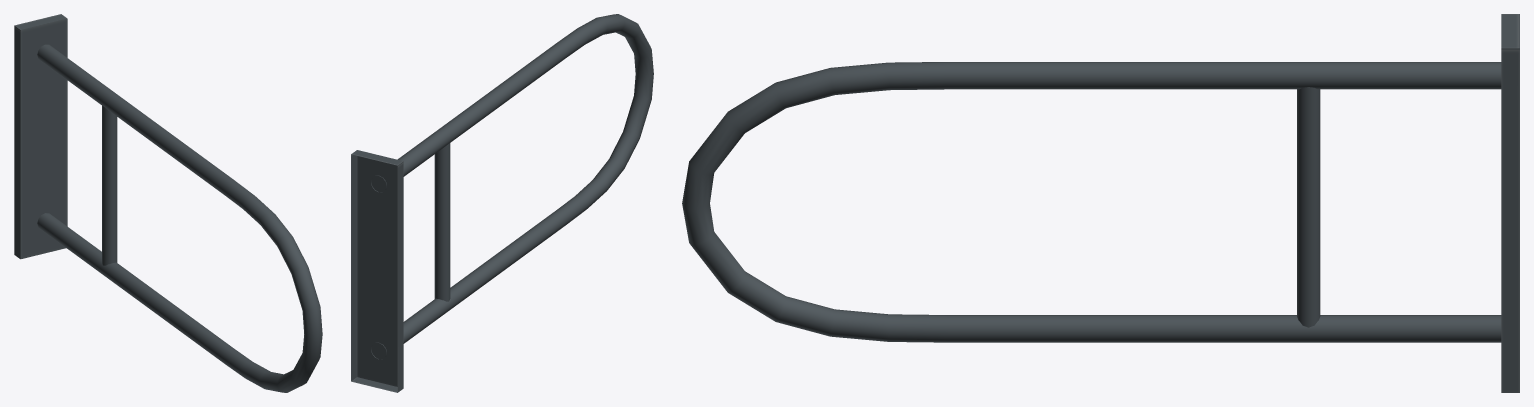
The model's file is commode support.FBX.
The picture shows the model from 3 angles, left to right: view 1: azimuth 30°, elevation 25°; view 2: azimuth 150°, elevation 25°; view 3: azimuth 270°, elevation 25°; orthographic projection. The views are drawn at different scales.
Visible parts, largest first — view 1: commode support; view 2: commode support; view 3: commode support.
Boxes of the visible parts, bbox=[...] form: commode support: bbox=[14, 14, 322, 392]; commode support: bbox=[351, 14, 653, 392]; commode support: bbox=[682, 14, 1519, 392].
Size of the model in its own units: 3.51 by 36.08 by 16.37.
